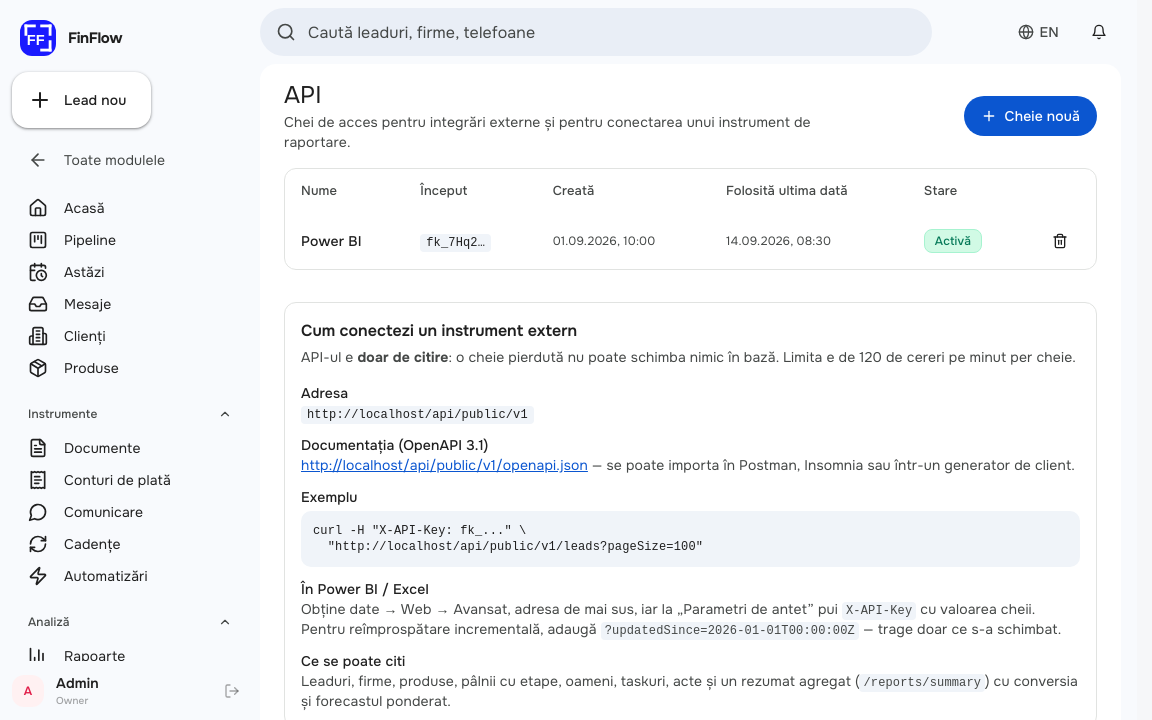
Ecranul de chei API › [blocant] cheia nouă apare O DATĂ, cu avertismentul că nu se mai poate vedea
Check: the text "Power BI" is shown, box [285,213,404,269]
Click the button "Cheie nouă": (1030, 116) [964,96,1097,136]
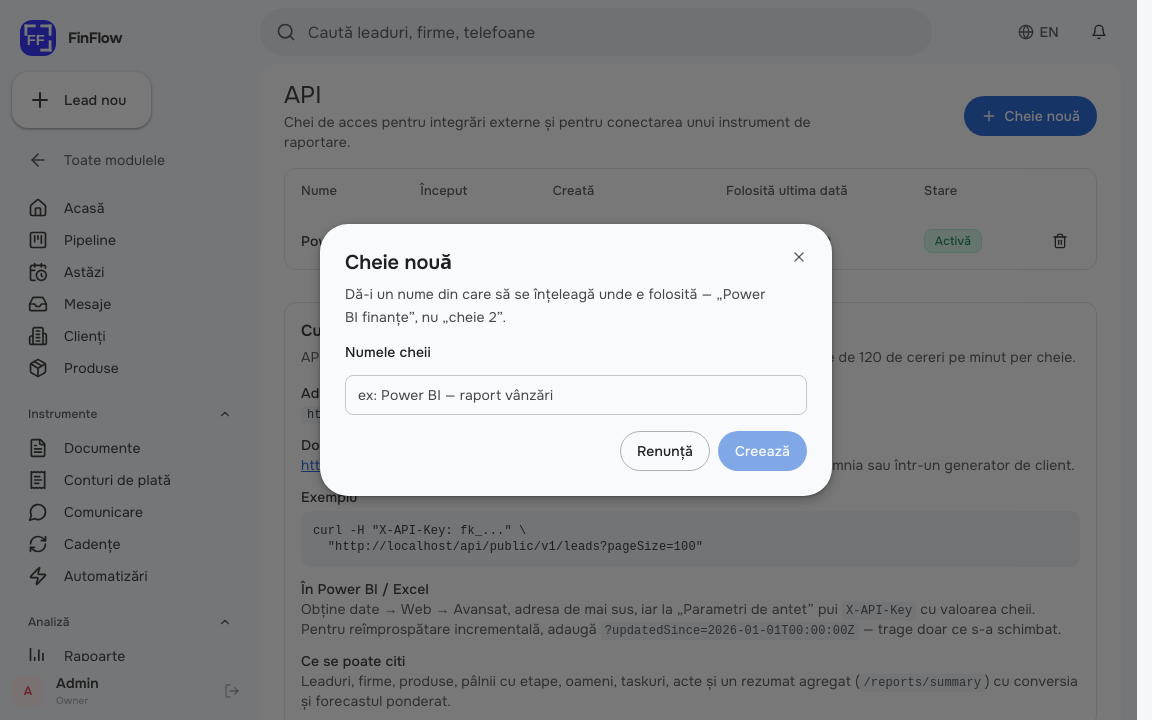
In the field labelled "Numele cheii": (576, 395) [345,375,807,415], type "Raport vânzări"
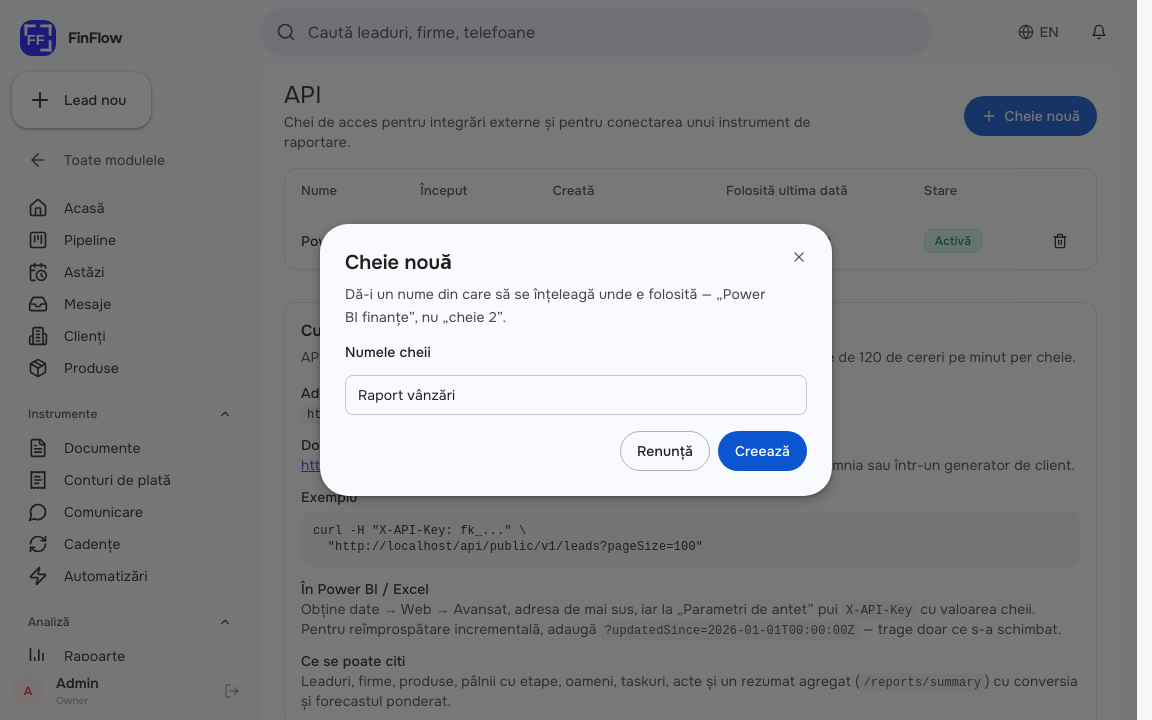
Click the button "Creează": (762, 451) [718,431,807,471]
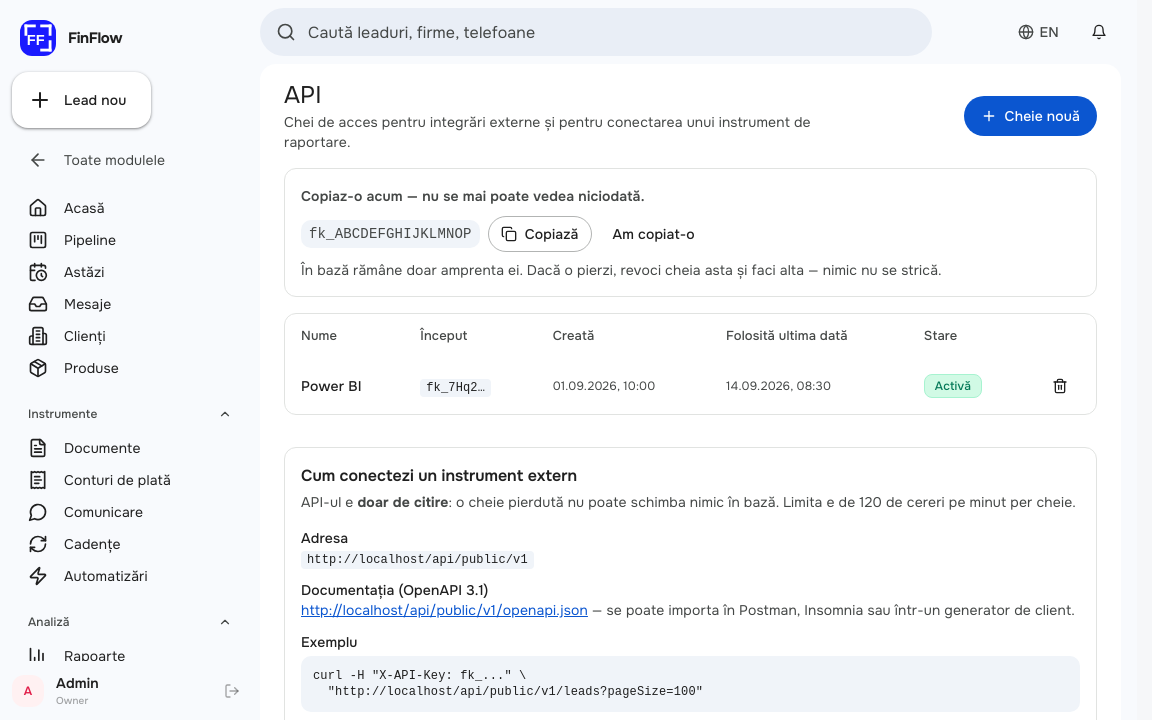
Check: the text "fk_ABCDEFGHIJKLMNOP" is shown, box [301,220,480,248]
Check: the text "Copiaz-o acum — nu se mai poate vedea niciodată." is shown, box [301,187,645,205]
# După „Am copiat-o", valoarea dispare din ecran — nu rămâne agățată într-o filă deschisă.
Click the button "Am copiat-o": (654, 234) [600,216,708,252]
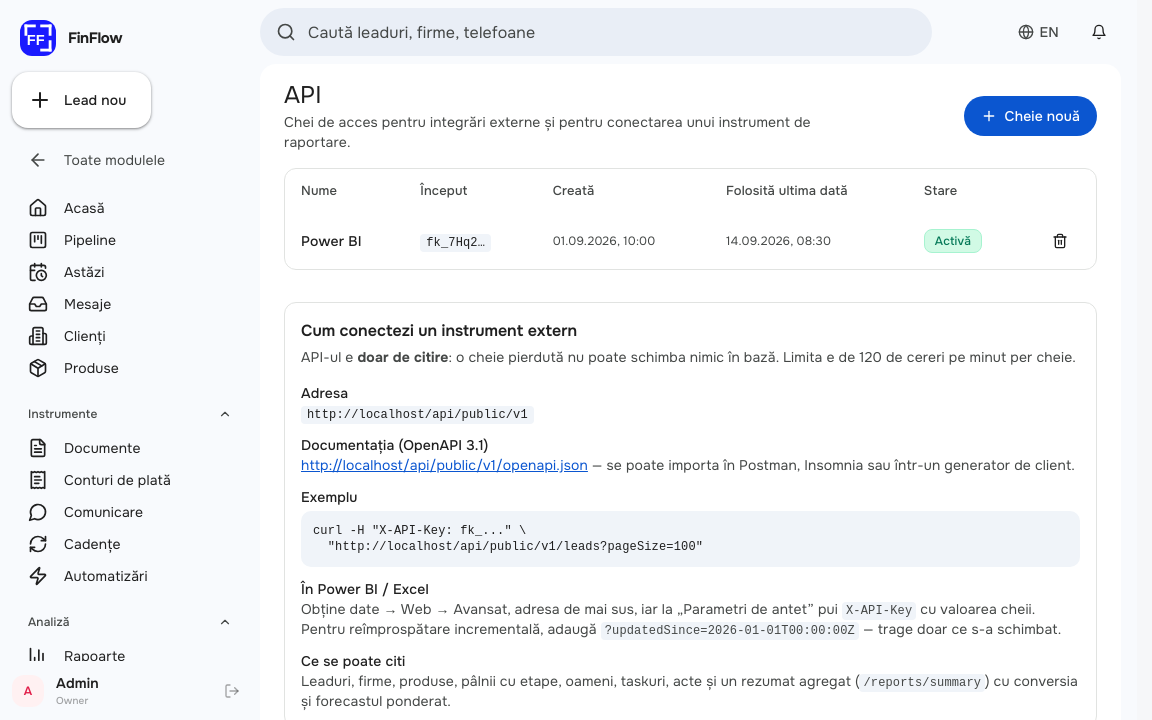
Check: the text "fk_ABCDEFGHIJKLMNOP" is gone
